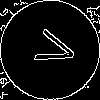V: (25, 25, 79, 71)
